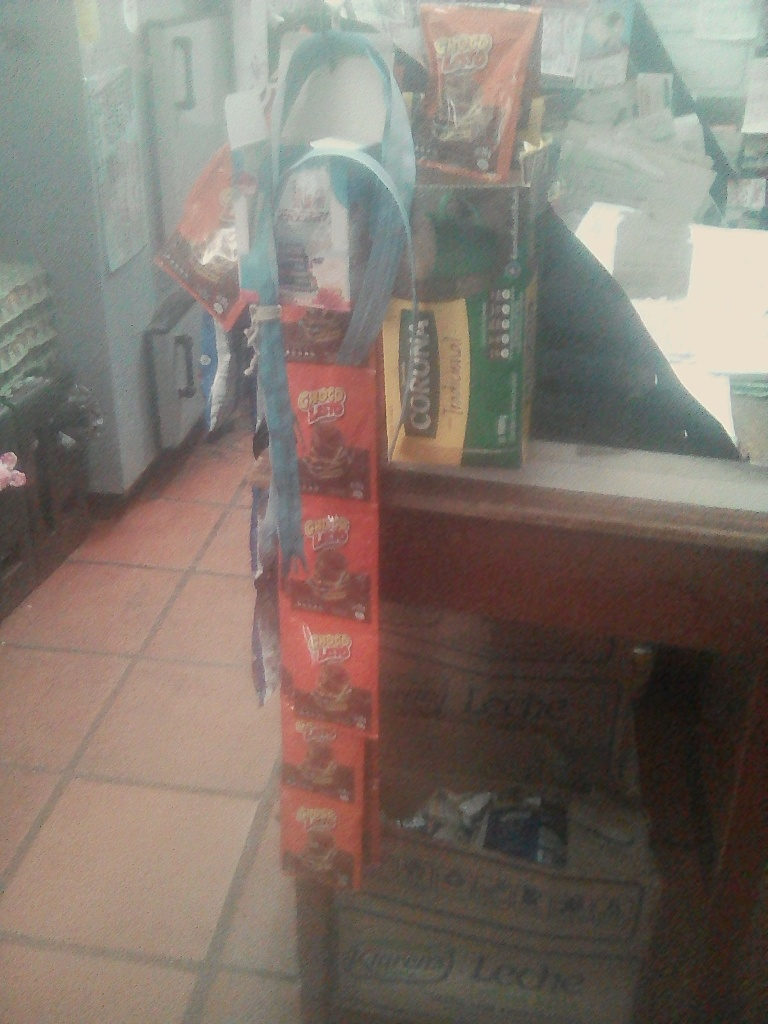COL0170103SOB02000: (275, 788, 368, 895)
